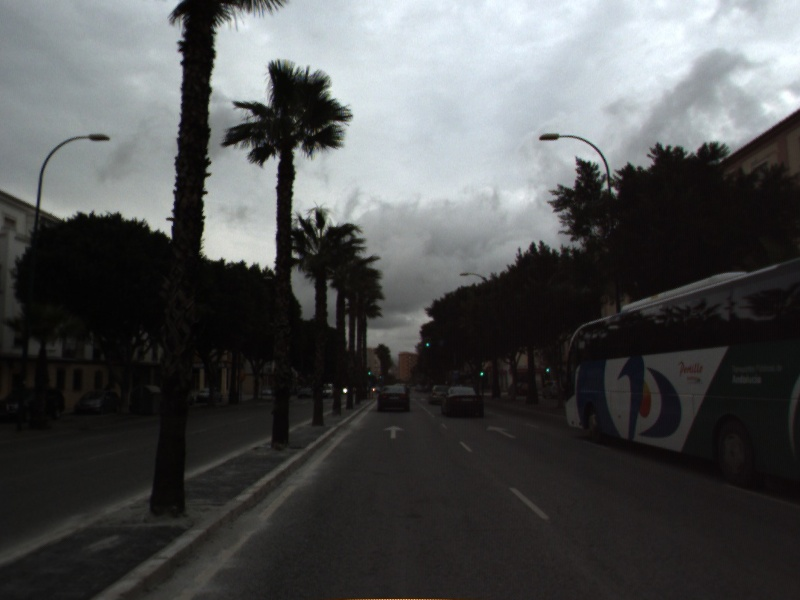STRAIGHT: (484, 423, 519, 441), (381, 423, 408, 441)
